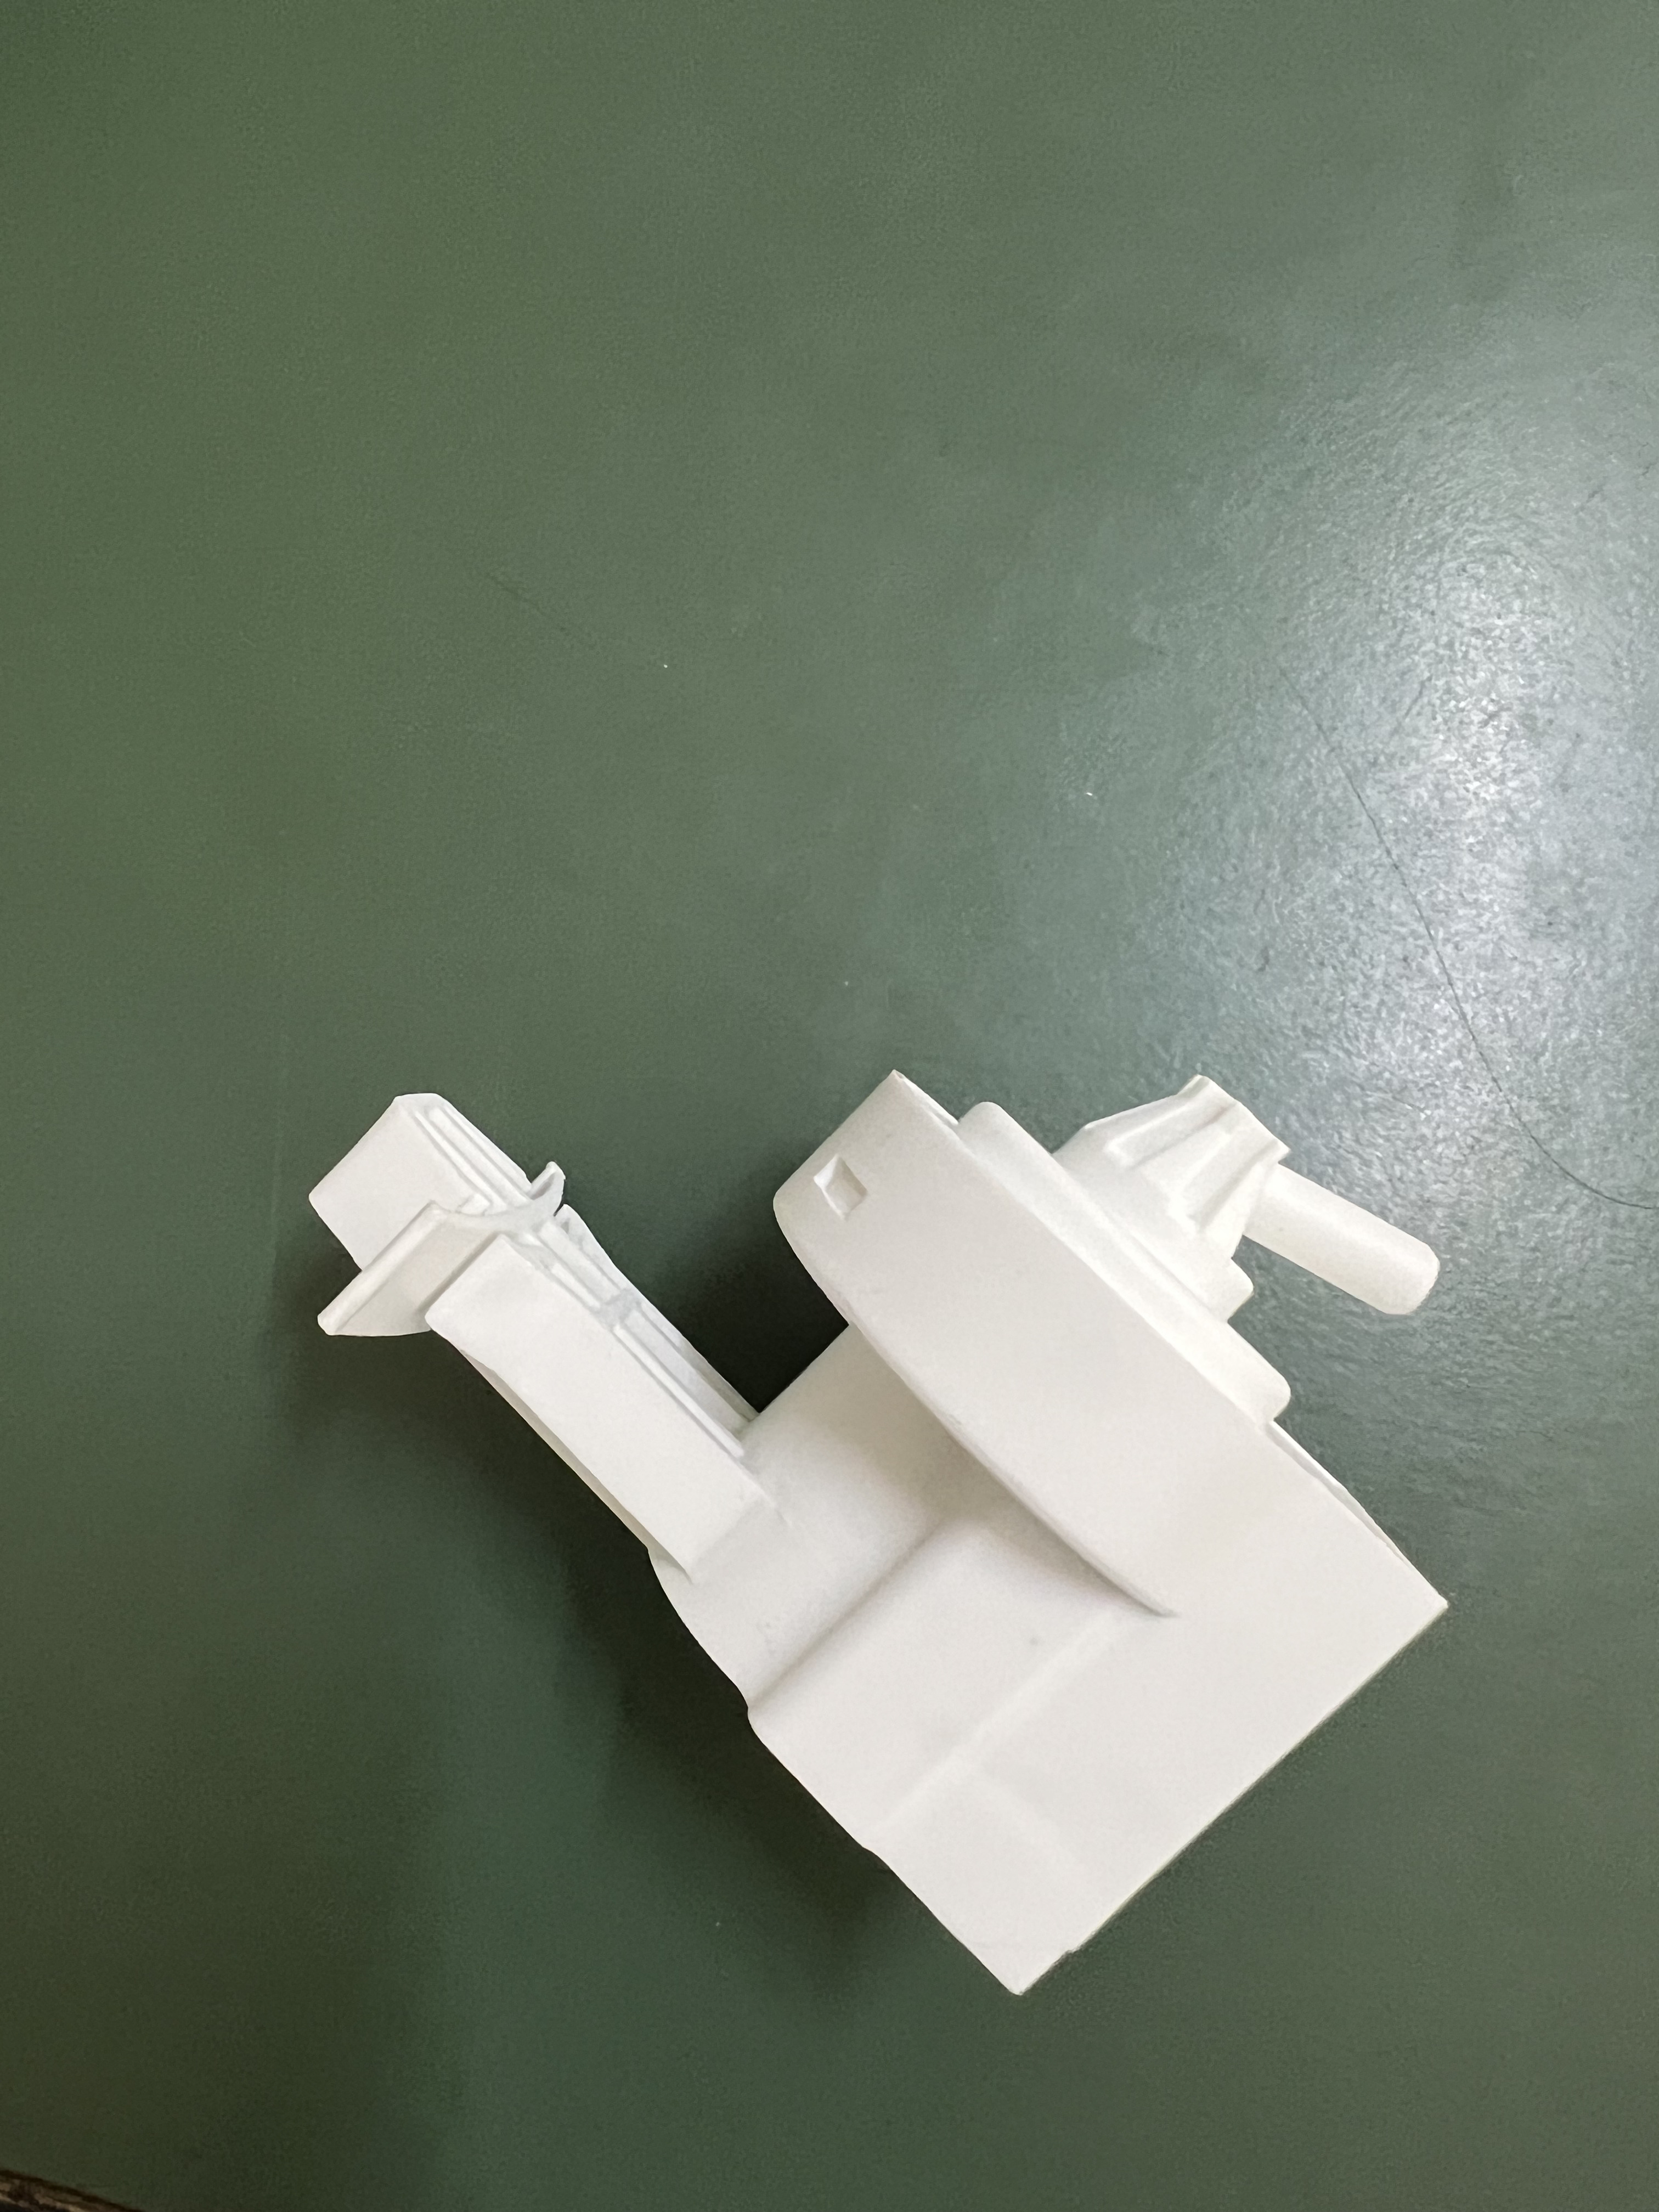pressure_switch_1: (289, 1015, 1502, 1989)
